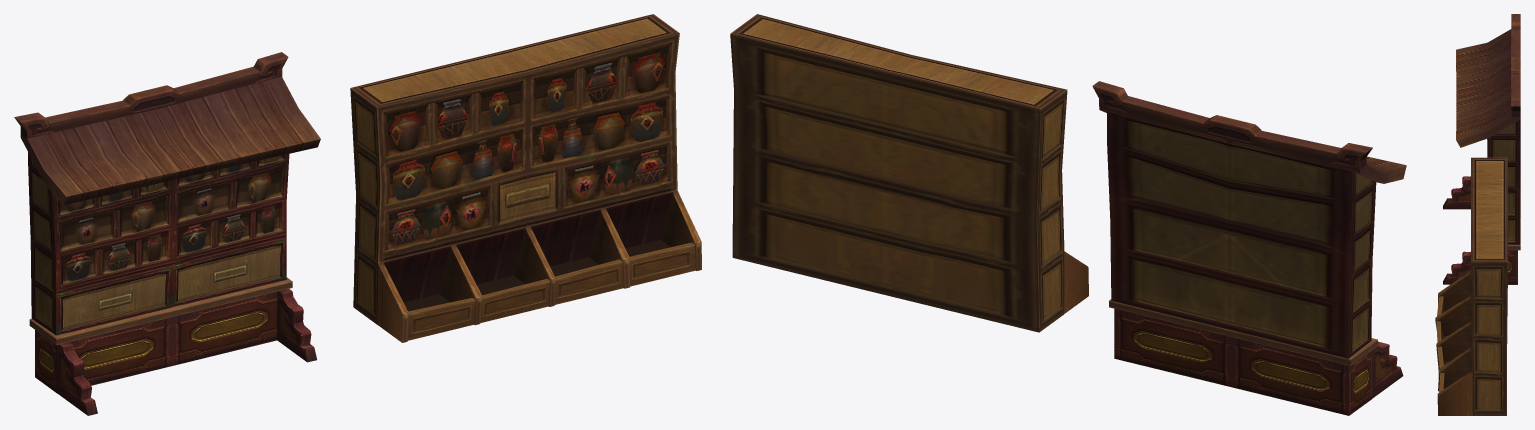
Rendered from jiu_jia_001.FBX.
The picture shows the model from 3 angles, left to right: view 1: azimuth 30°, elevation 25°; view 2: azimuth 150°, elevation 25°; view 3: azimuth 270°, elevation 25°; orthographic projection. The views are drawn at different scales.
Visible parts, largest first — view 1: jiu_jia_001_b002, jiu_jia_001_a; view 2: jiu_jia_001_b002, jiu_jia_001_a; view 3: jiu_jia_001_b002, jiu_jia_001_a.
Boxes of the visible parts, x1=… form: jiu_jia_001_b002: x1=350, y1=14, x2=701, y2=342; jiu_jia_001_a: x1=14, y1=52, x2=320, y2=415; jiu_jia_001_b002: x1=730, y1=14, x2=1088, y2=332; jiu_jia_001_a: x1=1092, y1=81, x2=1406, y2=415; jiu_jia_001_b002: x1=1435, y1=157, x2=1507, y2=415; jiu_jia_001_a: x1=1443, y1=14, x2=1520, y2=284.
Bounding box in the file's own units: 806 × 322 × 134.
